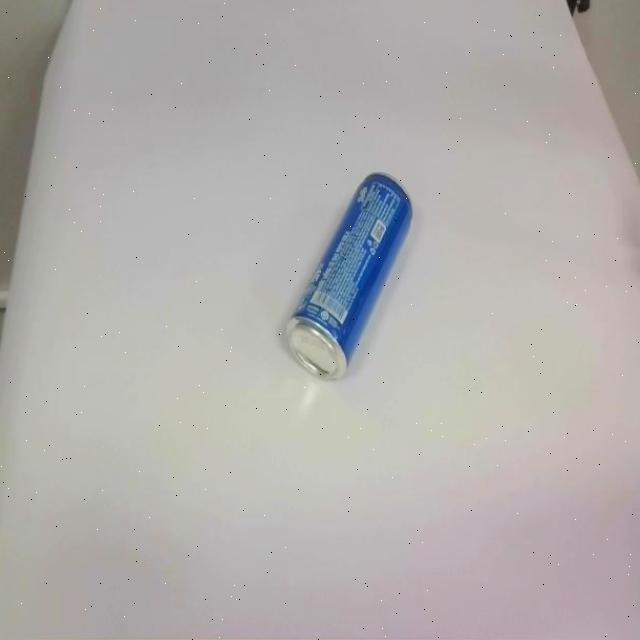debris: (286, 172, 414, 382)
